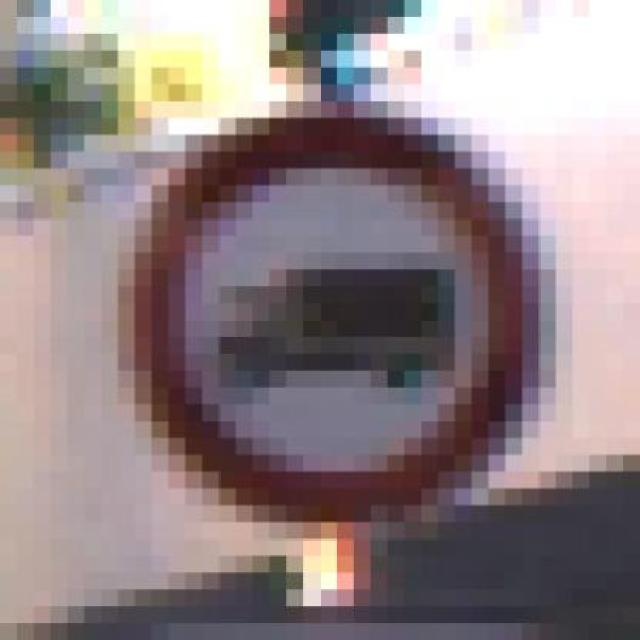Truck traffic is prohibited: (67, 101, 573, 505)
